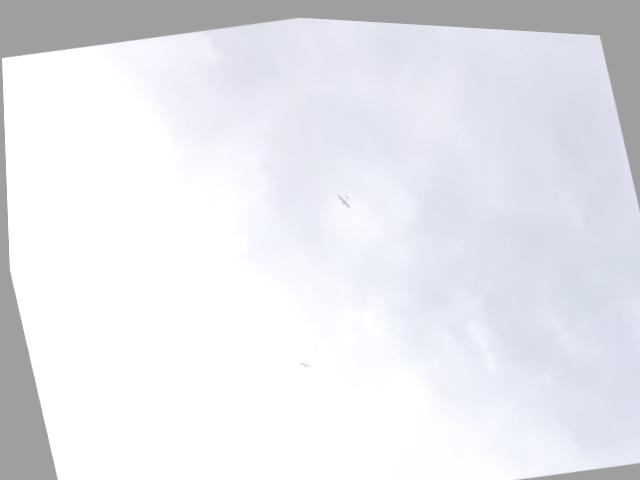uav: (332, 184, 353, 209), (293, 352, 309, 367)
